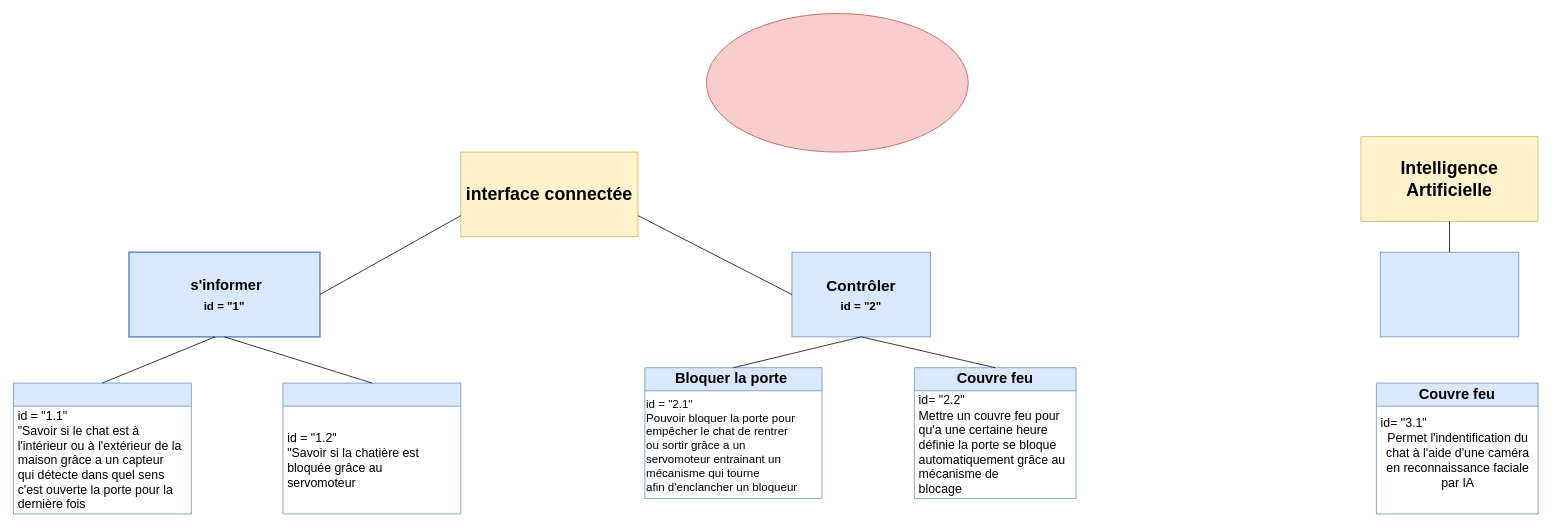
This 1552x527 diagram has some shape labels left out. Here are the shapes that lost their labels. From the top down, the box of each, then its label:
(706, 13, 968, 152): CHATIERE CONNECTEE
(1379, 251, 1519, 337): Indentifier id = "3"
(13, 382, 191, 514): Chat intérieur/ extérieur ?
(282, 382, 461, 514): Chatière bloquée ?
